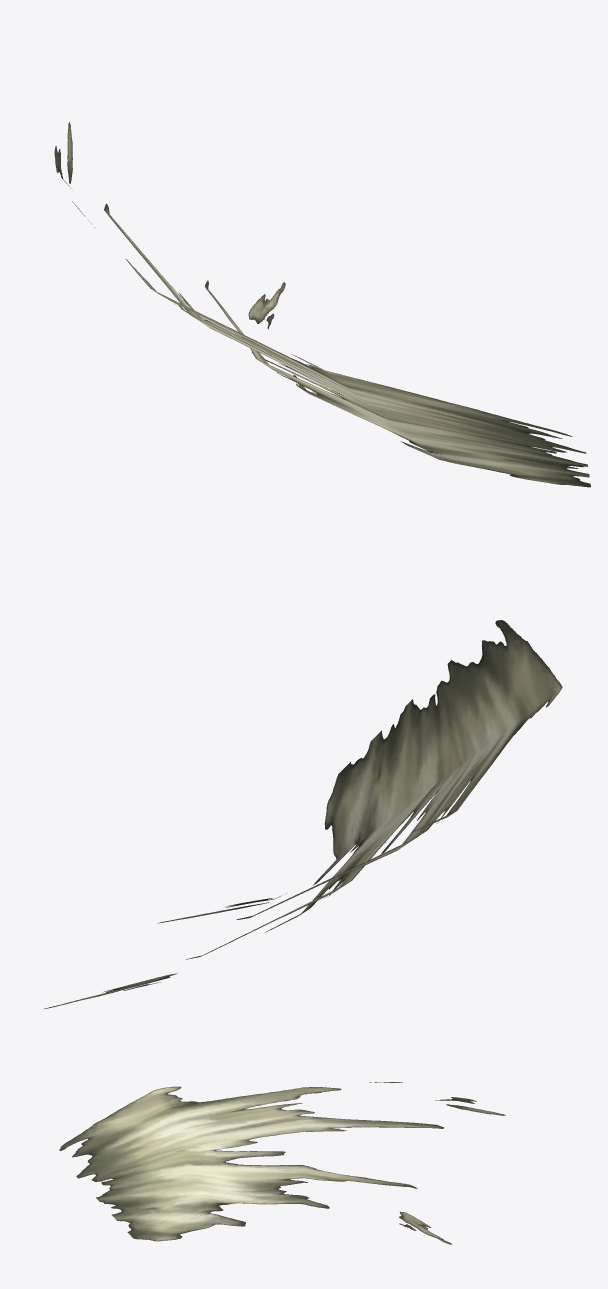
The model's file is shock02.FBX.
3 renders of one model, top to bottom at view 1: azimuth 30°, elevation 25°; view 2: azimuth 150°, elevation 25°; view 3: azimuth 270°, elevation 25°, orthographic. The views are drawn at different scales.
Visible parts, largest first — view 1: shock02; view 2: shock02; view 3: shock02.
Part boxes in pixels (left/top/right/bottom): shock02: left=54, top=122, right=590, bottom=487; shock02: left=44, top=620, right=562, bottom=1008; shock02: left=59, top=1082, right=505, bottom=1244.
Size of the model in its own units: 2.29 by 1.46 by 6.13.
1 material, 1 textured.
